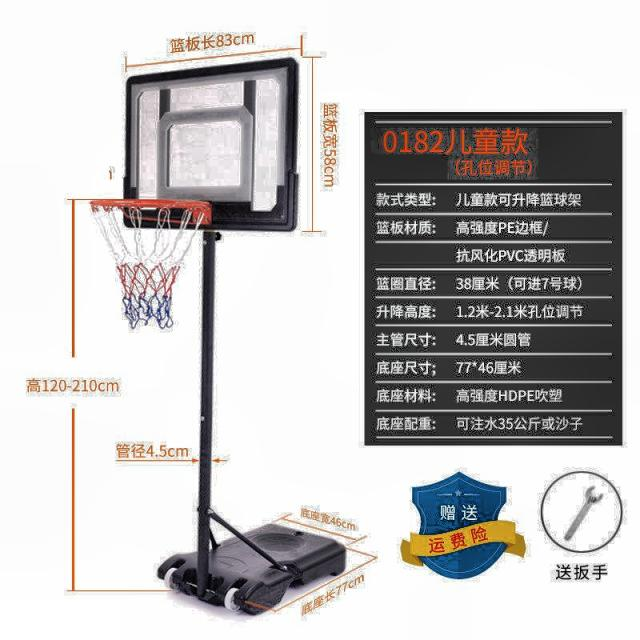rim: (86, 197, 209, 331)
